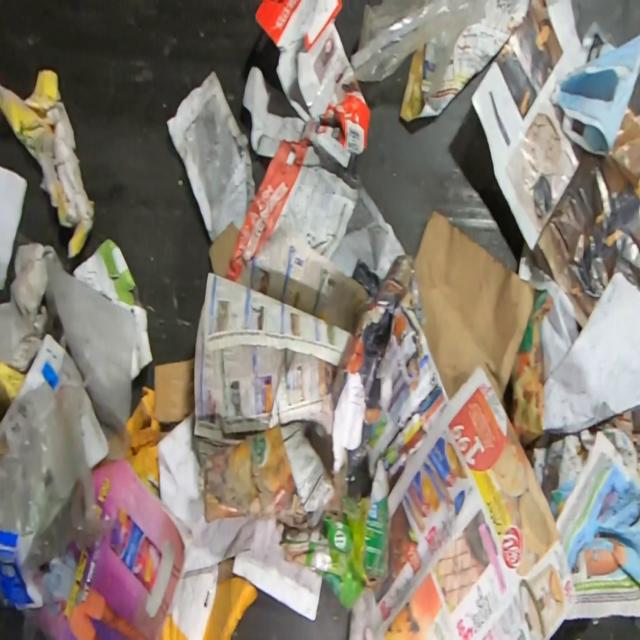cardboard: (414, 209, 536, 404), (241, 0, 372, 169), (0, 68, 96, 260), (284, 495, 392, 612), (152, 358, 194, 422), (208, 220, 241, 278)
soft_plastic: (0, 380, 116, 570), (350, 0, 488, 93)
